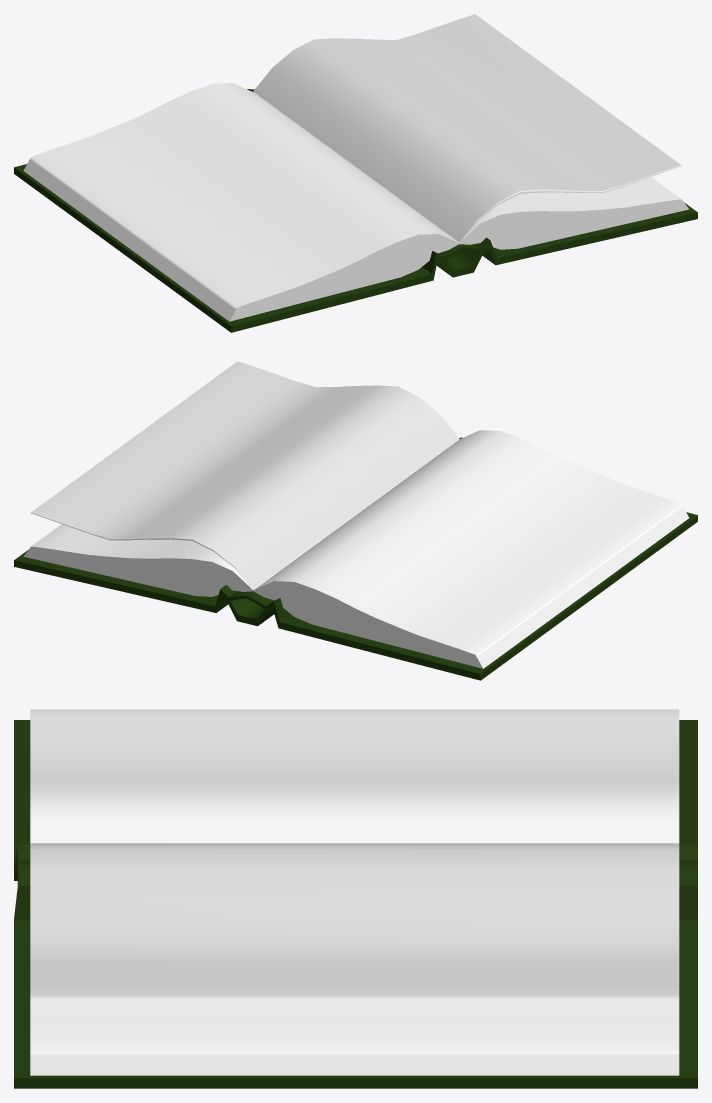
File: JackBook.fbx
The picture shows the model from 3 angles, top to bottom: view 1: azimuth 30°, elevation 25°; view 2: azimuth 150°, elevation 25°; view 3: azimuth 270°, elevation 25°; orthographic projection. The views are drawn at different scales.
Visible parts, largest first — view 1: page, page.001; view 2: page, page.001; view 3: page, page.001.
Boxes of the visible parts, left/top/right/bottom form: page: left=14, top=83, right=697, bottom=332; page.001: left=253, top=14, right=681, bottom=242; page: left=14, top=430, right=697, bottom=680; page.001: left=31, top=361, right=459, bottom=589; page: left=14, top=709, right=697, bottom=1088; page.001: left=30, top=843, right=679, bottom=998.
Size of the model in its own units: 21.15 by 2.99 by 17.05.
